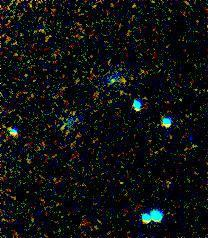star: (105, 62, 135, 92)
